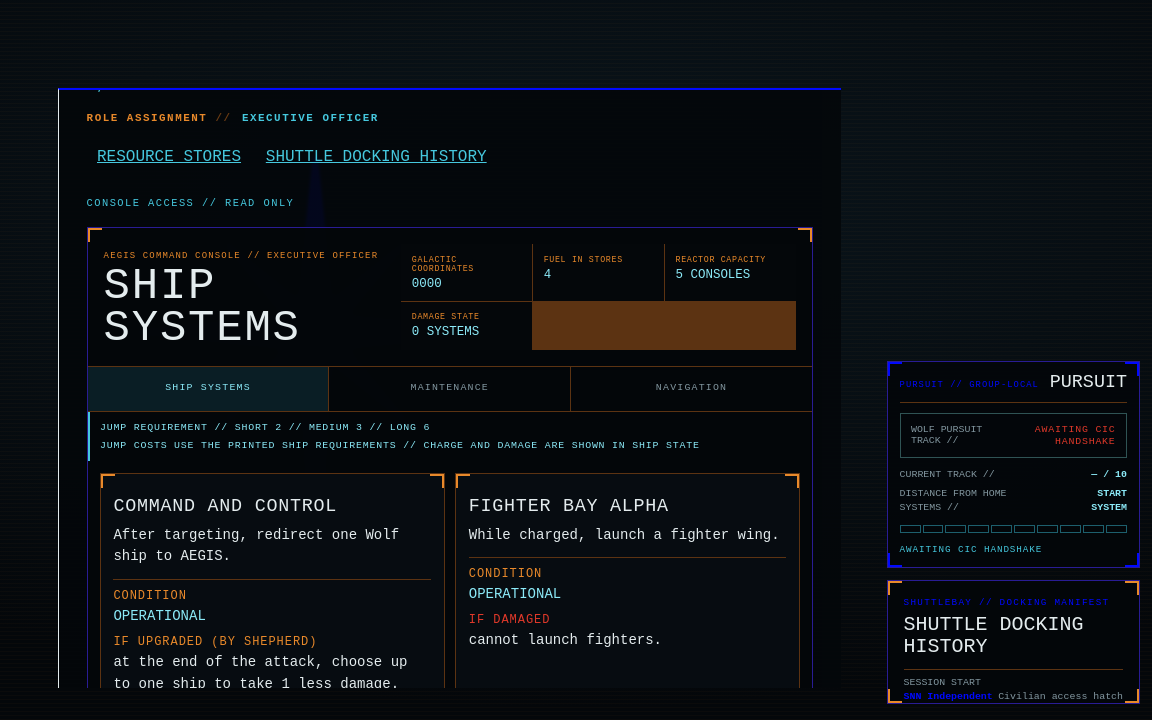
keeps Executive Officer maintenance read-only for a foreign held station
The width and height of the screenshot is (1152, 720).
(page scrolled)
Step 1. Click the button "Maintenance" → [450, 389], box [329,367,571,411]
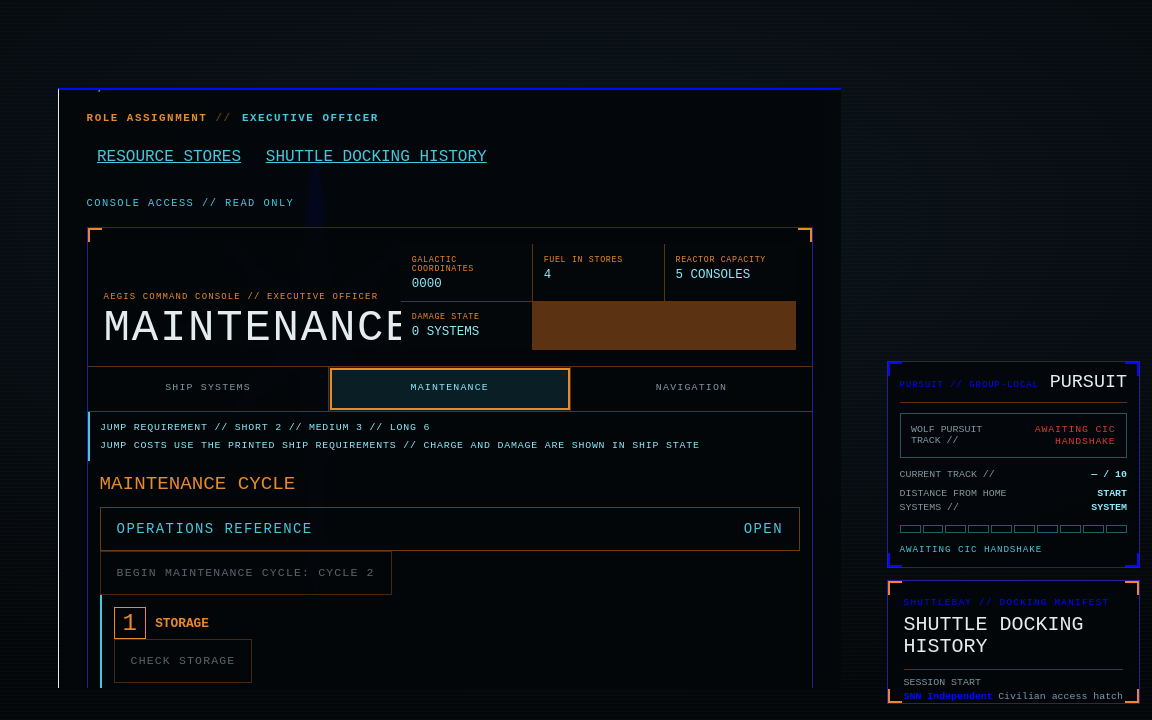
Result: the button "Check storage" is disabled at [114,639,252,683]
